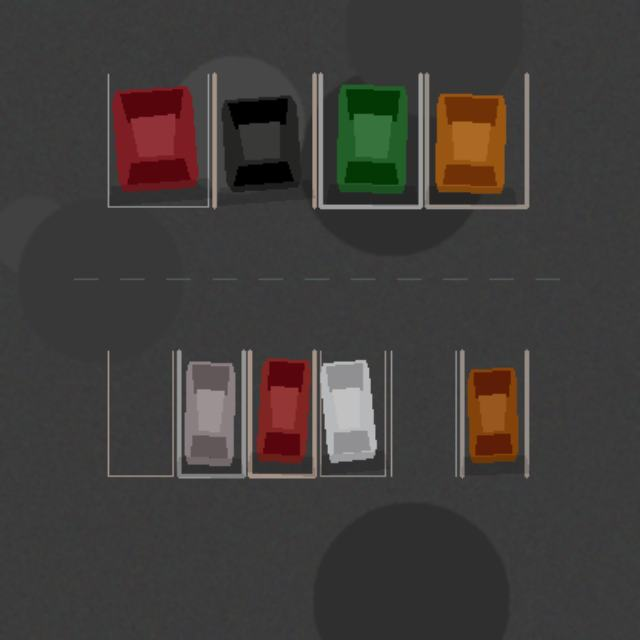space-empty: (108, 351, 172, 475), (391, 351, 455, 475)
space-occupied: (108, 74, 208, 206), (214, 74, 314, 206), (320, 74, 420, 206), (426, 74, 526, 206), (178, 351, 243, 475), (249, 351, 314, 475), (320, 351, 385, 475), (462, 351, 526, 475)
